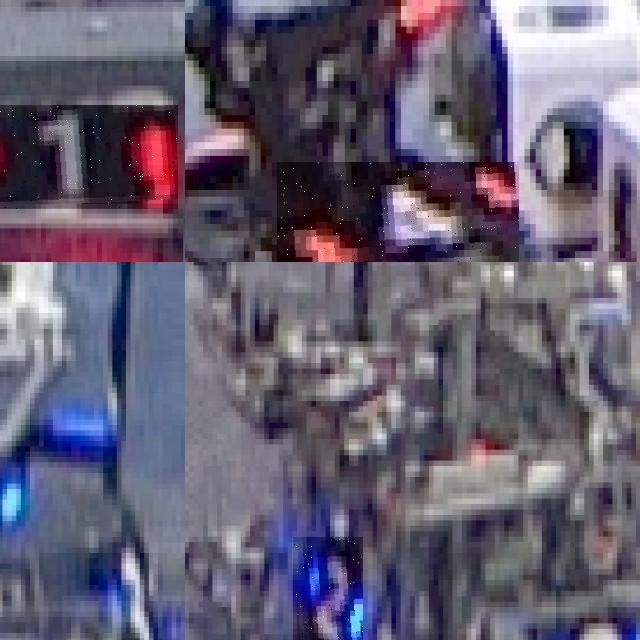B2: (292, 536, 363, 640), (542, 607, 640, 640)
R1: (0, 105, 178, 208)
R4: (277, 162, 518, 262)
